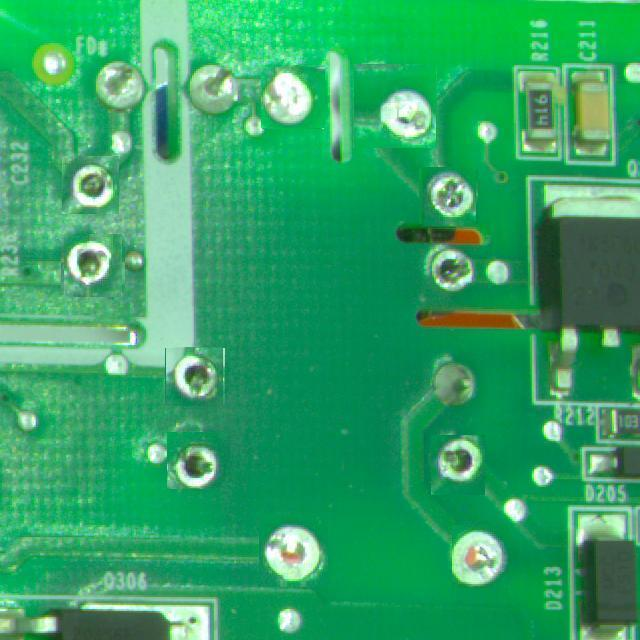lack_of_part: (353, 65, 437, 148), (258, 515, 330, 586), (262, 65, 324, 128), (63, 234, 124, 296), (452, 525, 510, 588), (166, 347, 224, 406), (167, 432, 226, 489), (62, 156, 119, 214), (425, 246, 488, 298), (420, 168, 477, 225), (431, 435, 485, 495)
